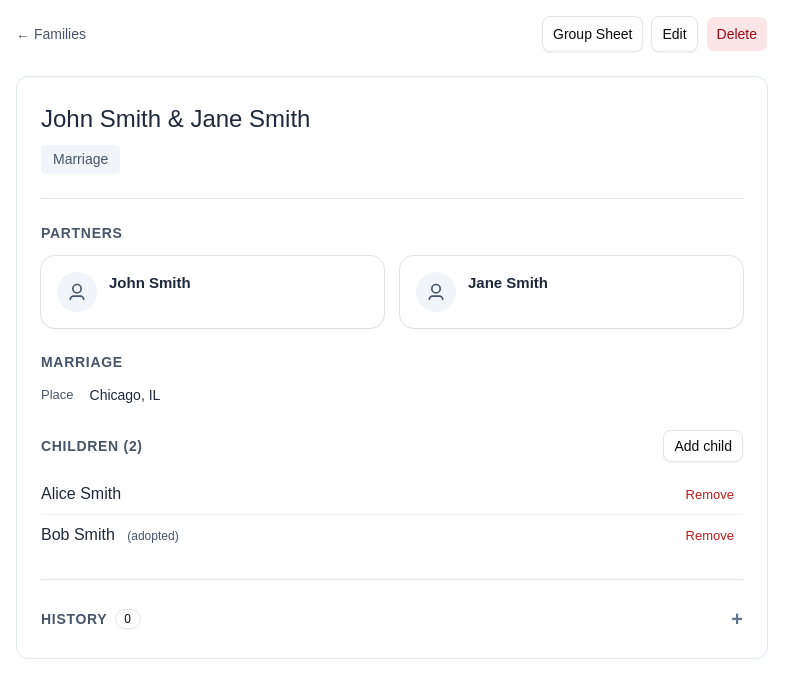
Test: Family Detail Page: partners and children (#826) › shows the current partners in the edit form
The image size is (785, 676).
Expected: the heading "John Smith & Jane Smith" is shown, [41, 105, 310, 132]
Click the button "Edit" at (674, 34), box [651, 16, 698, 52]
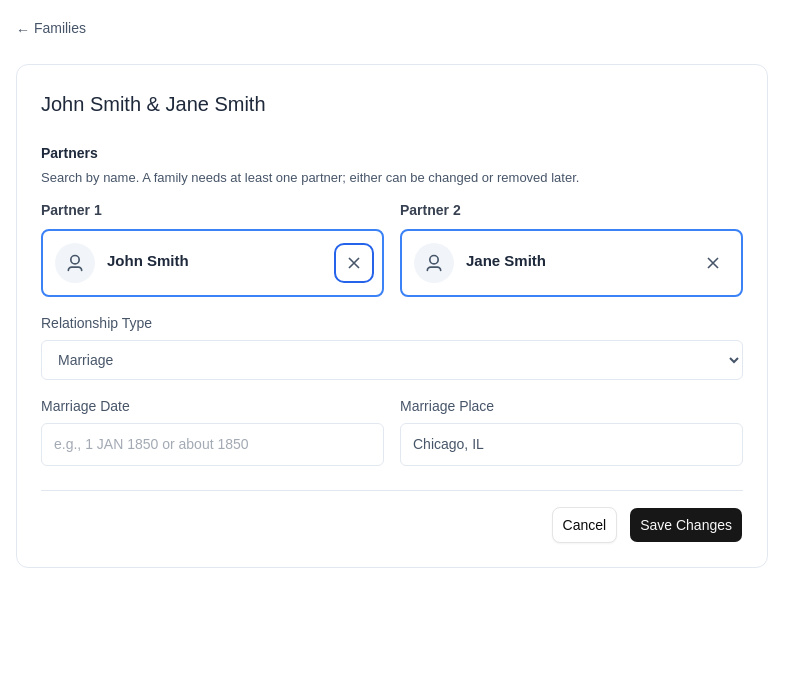
Result: the button named "Clear Partner 1: John Smith" is shown at [338, 246, 370, 278]
Result: the button named "Clear Partner 2: Jane Smith" is shown at [697, 246, 729, 278]
